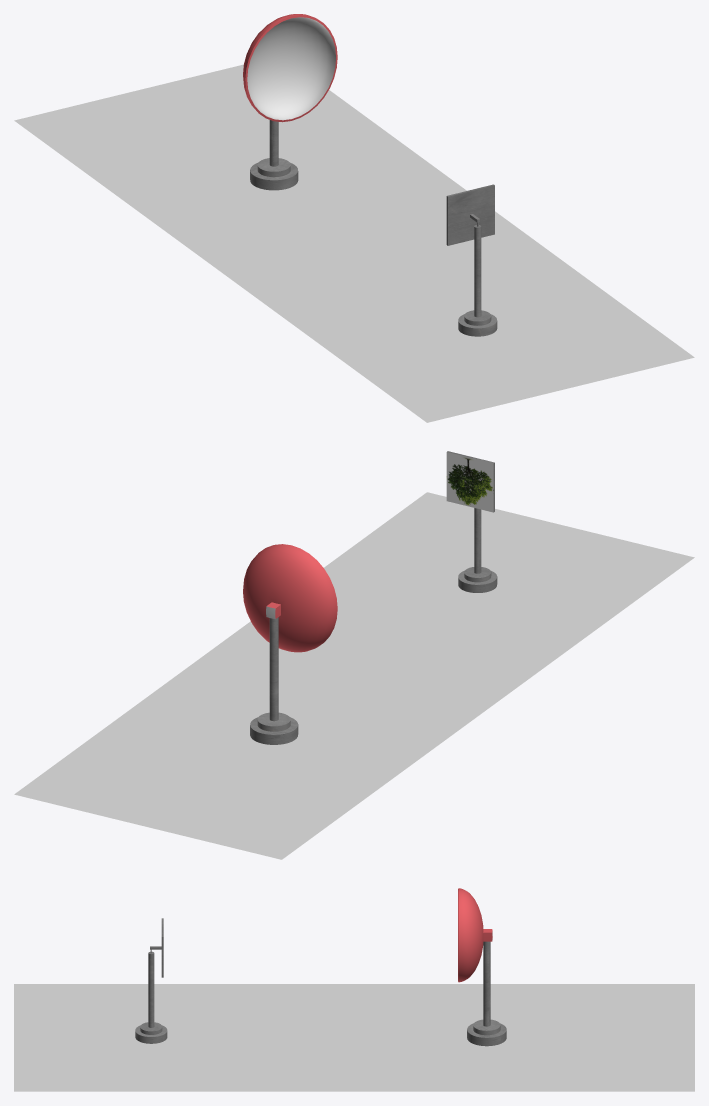
Rendered from Concave_mirror_manual_focal length.fbx.
3 renders of one model, top to bottom at view 1: azimuth 30°, elevation 25°; view 2: azimuth 150°, elevation 25°; view 3: azimuth 270°, elevation 25°, orthographic. The views are drawn at different scales.
Visible parts, largest first — view 1: Plane, Sphere, Cylinder, Cylinder.001; view 2: Plane, Sphere, Cylinder, Cylinder.001; view 3: Plane, Sphere, Cylinder.001, Cylinder.
Boxes of the visible parts, left/top/right/bottom form: Plane: left=14, top=64, right=694, bottom=422; Sphere: left=243, top=14, right=337, bottom=122; Cylinder: left=446, top=184, right=497, bottom=336; Cylinder.001: left=250, top=120, right=298, bottom=190; Plane: left=14, top=492, right=694, bottom=859; Sphere: left=243, top=544, right=337, bottom=652; Cylinder: left=446, top=451, right=497, bottom=592; Cylinder.001: left=250, top=617, right=298, bottom=744; Plane: left=14, top=984, right=694, bottom=1091; Sphere: left=458, top=888, right=492, bottom=982; Cylinder.001: left=467, top=941, right=506, bottom=1046; Cylinder: left=135, top=918, right=167, bottom=1043.
Bounding box in the file's own units: 3968 × 2504 × 10599.
